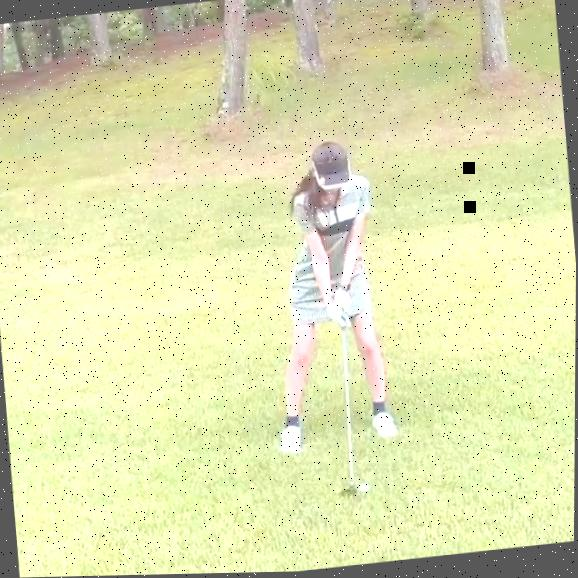ClubHead: (339, 486, 363, 503)
GolfBall: (362, 482, 374, 495)
